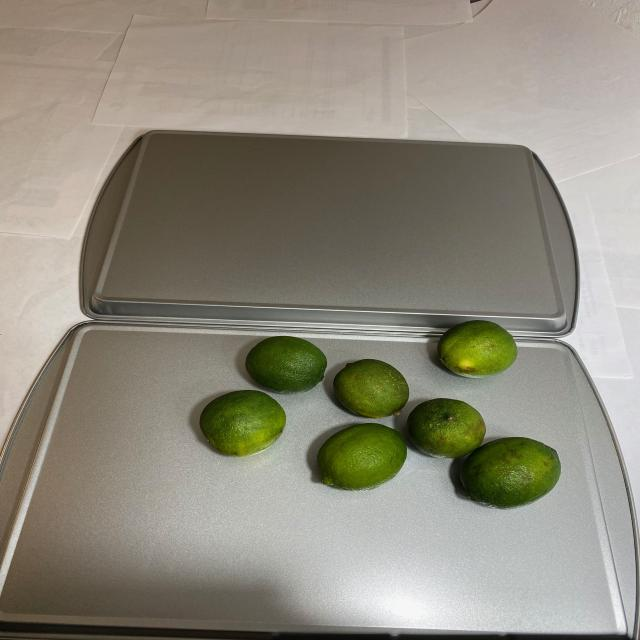lemon: (199, 320, 565, 505)
